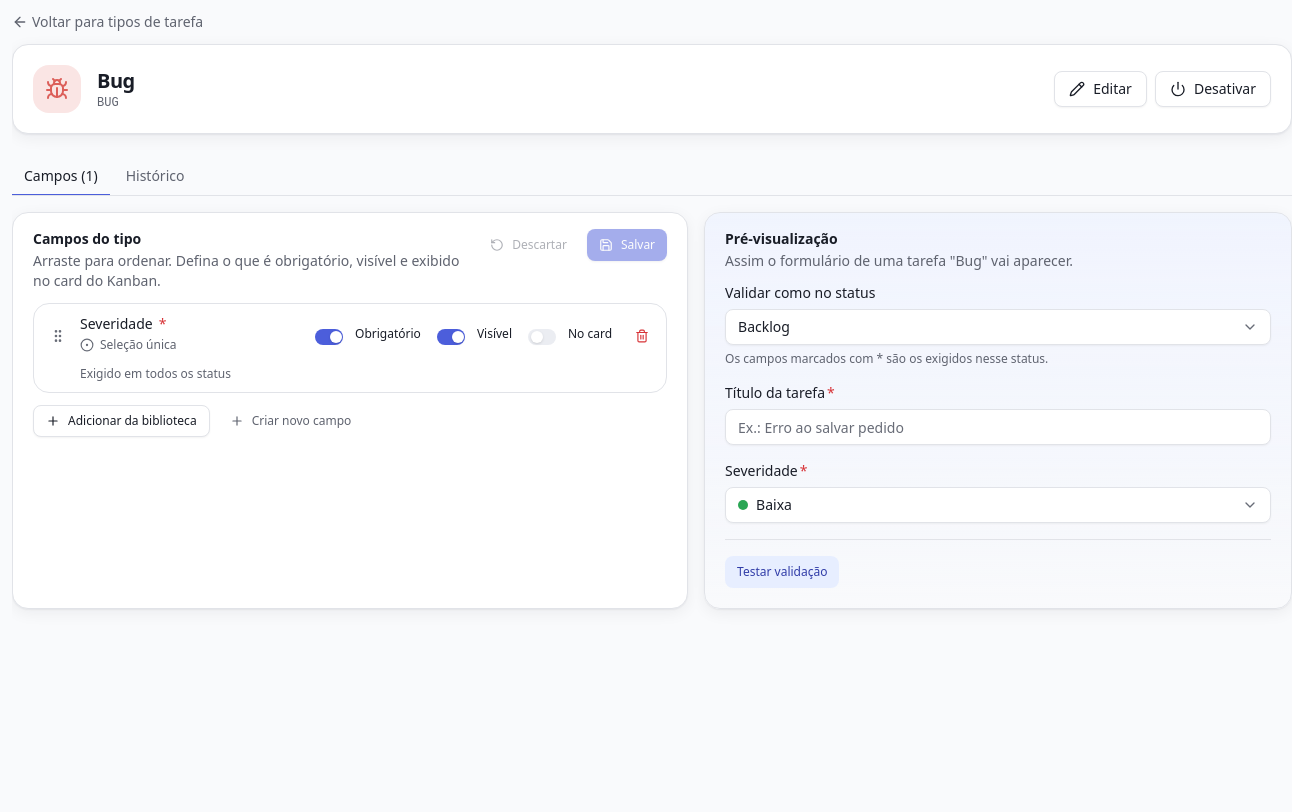
TaskTypeDetailPage › a pré-visualização considera o valor padrão do campo
Click the button "Testar validação": coordinates (782, 572) [725,556,840,588]
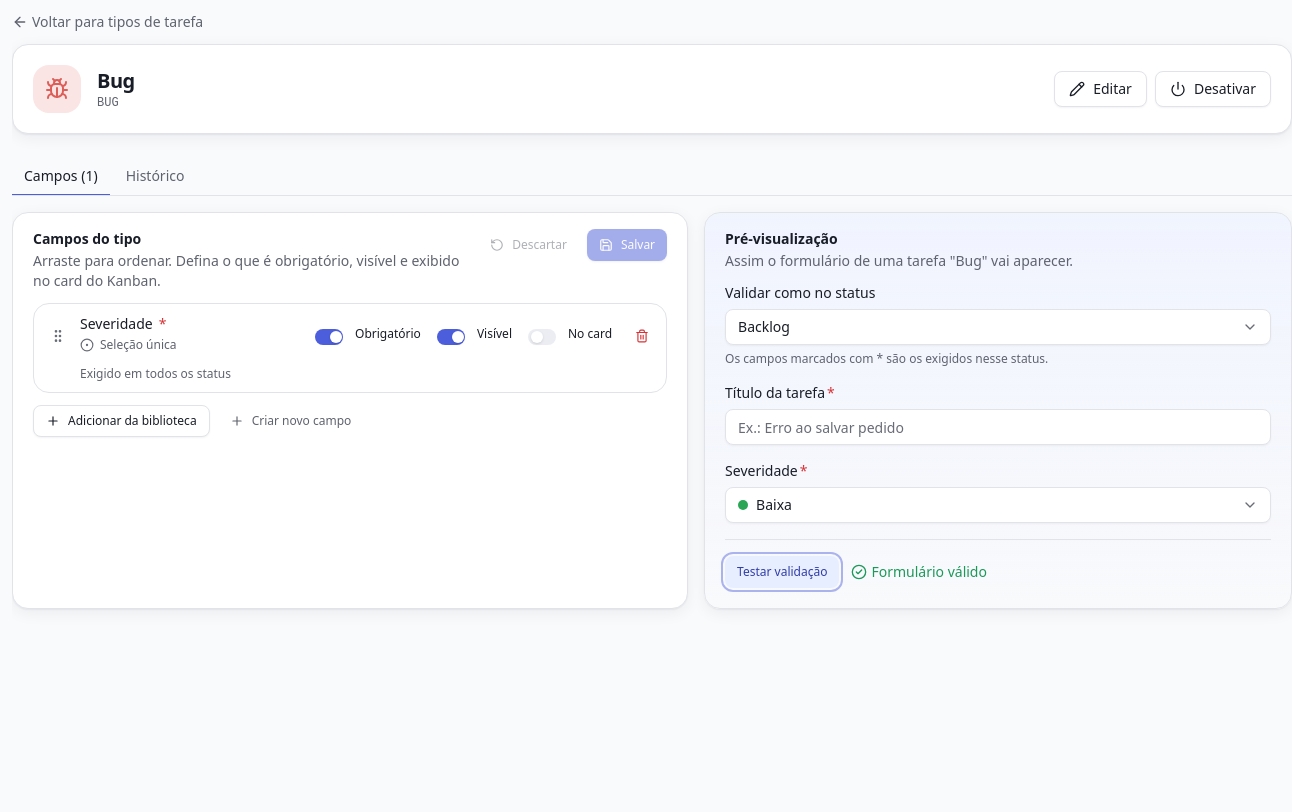
Check: the text "Formulário válido" is shown, box [852,562,987,582]
